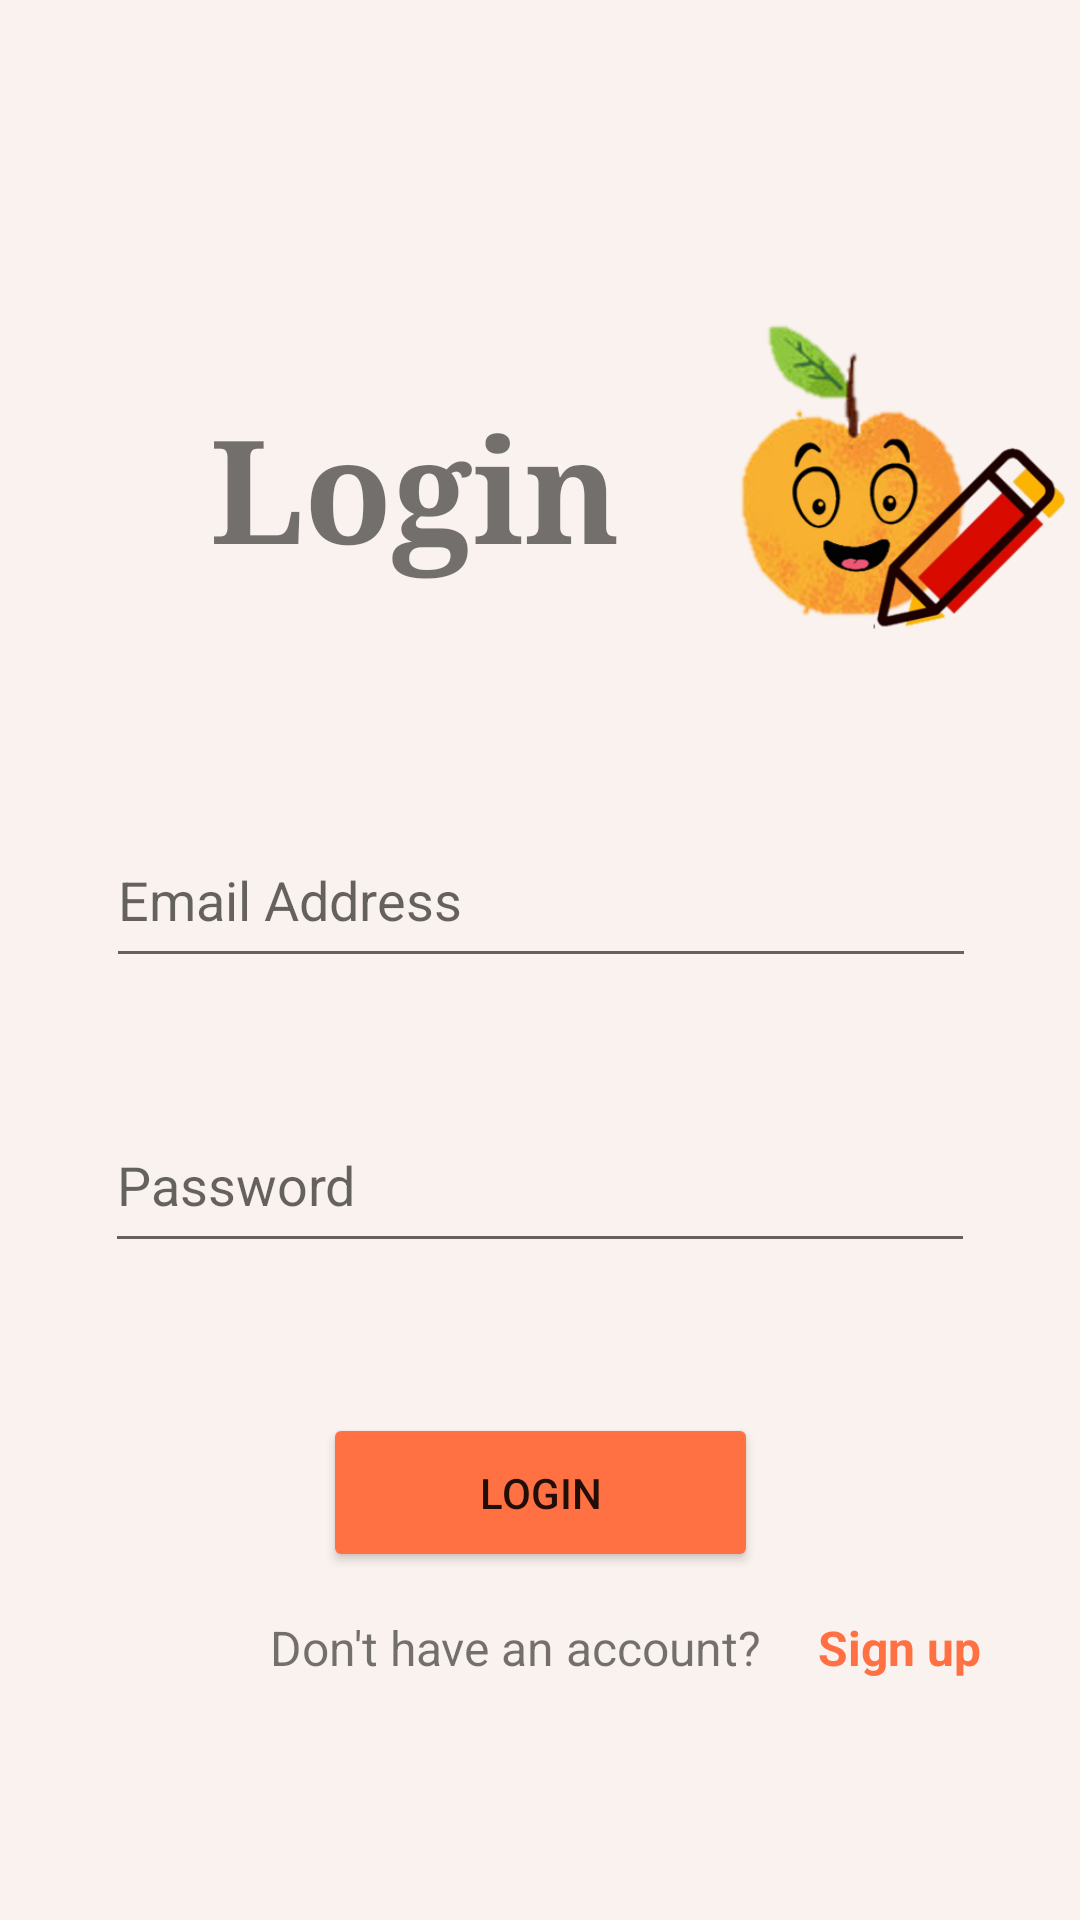

Where to tap for icons on this 1080px x 1920px app screen, as (x=x, y=y):
app: (x=903, y=477)
